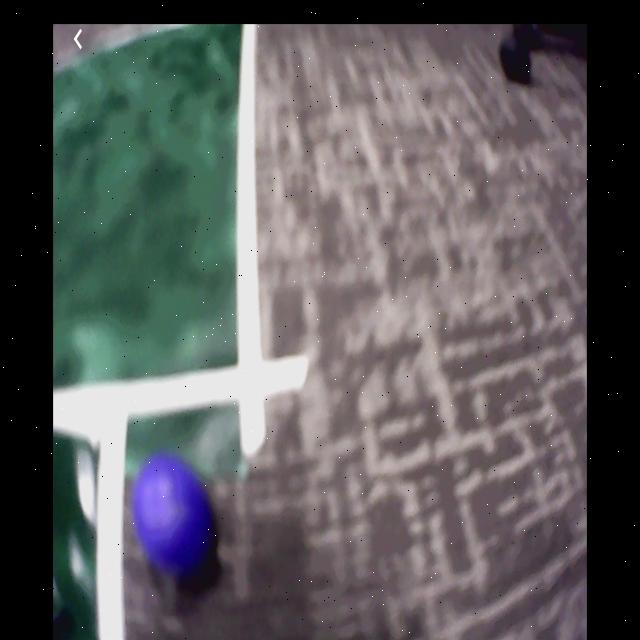ball: (133, 455, 217, 580)
